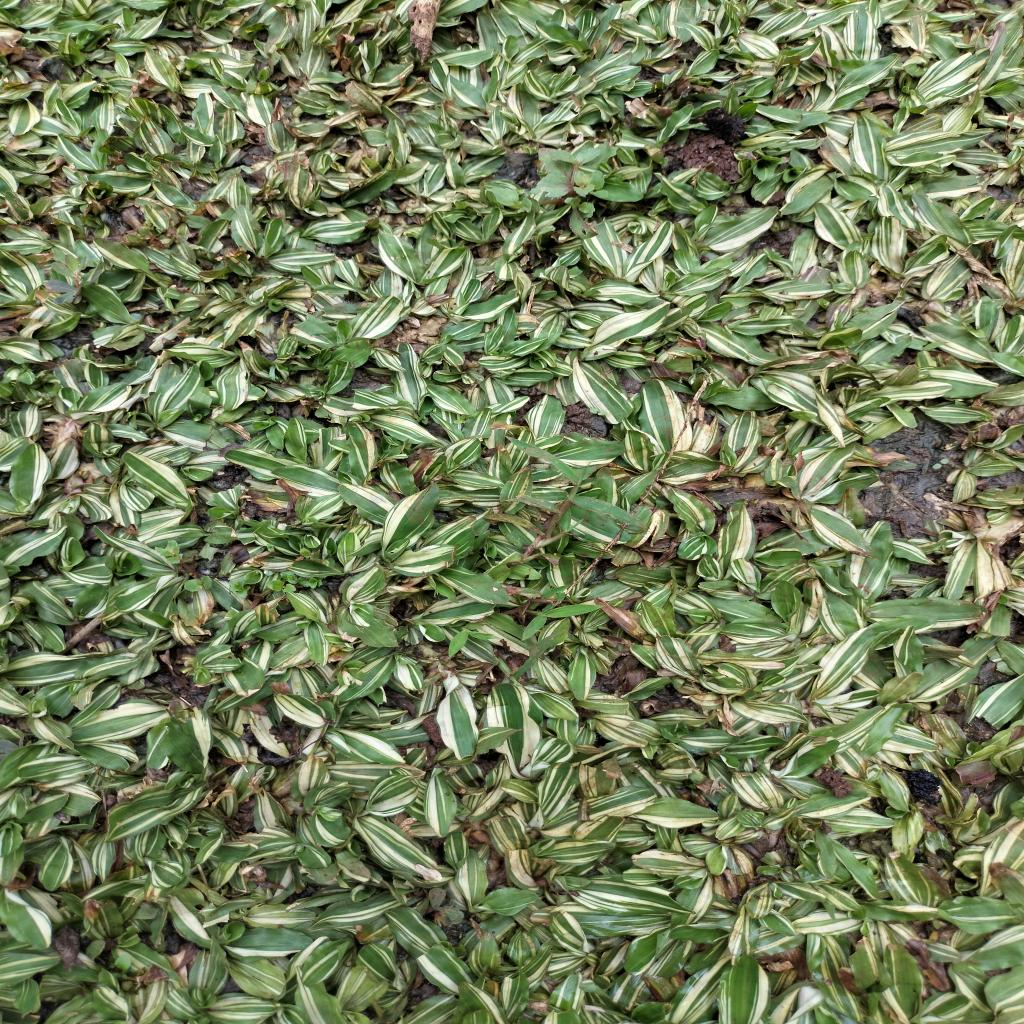bayi: (930, 457, 952, 471)
rambat atas: (498, 434, 650, 556), (518, 601, 609, 642), (448, 618, 502, 658)
ungu tunggang: (534, 140, 613, 220)
